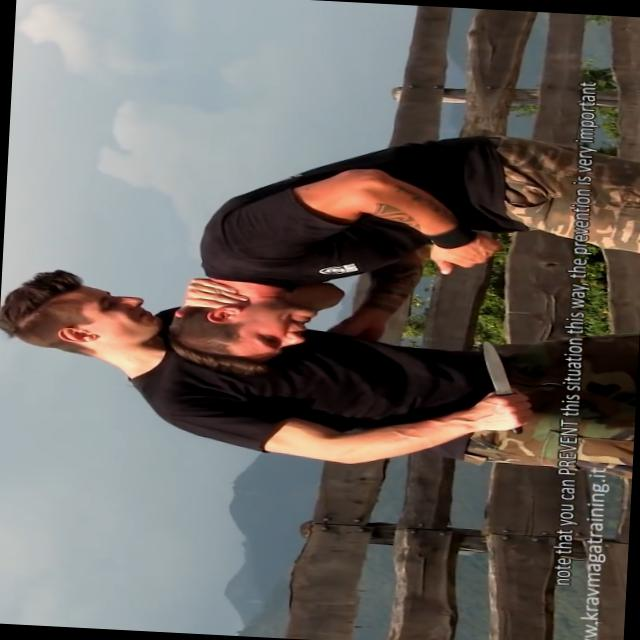knife: (464, 335, 542, 438)
